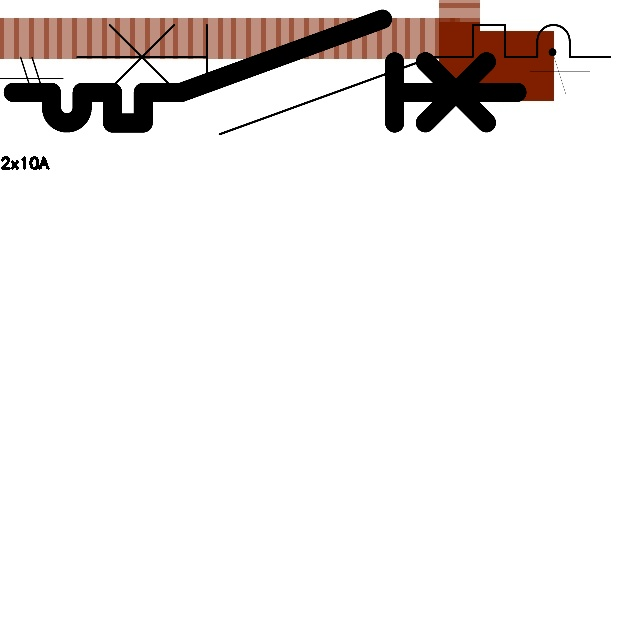interruptor_termomagnetico: (63, 11, 623, 148), (0, 6, 530, 136)
